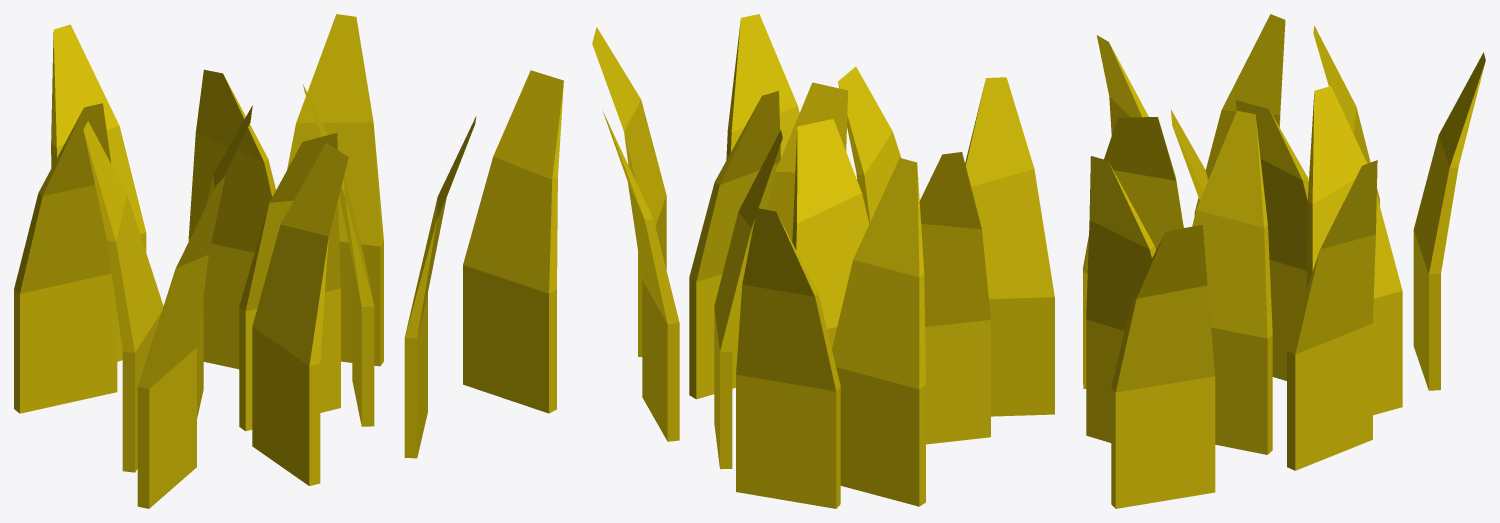
The model's file is Grass#4.fbx.
3 views of the same model, side by side, from view 1: azimuth 30°, elevation 25°; view 2: azimuth 150°, elevation 25°; view 3: azimuth 270°, elevation 25° (orthographic). The views are drawn at different scales.
Visible parts, largest first — view 1: Grass#4; view 2: Grass#4; view 3: Grass#4.
Boxes of the visible parts, x1,y1,x2,y2 form: Grass#4: (14,14,563,508); Grass#4: (592,14,1054,508); Grass#4: (1083,14,1485,508).
Bounding box in the file's own units: 38.17 × 25.92 × 30.68.
